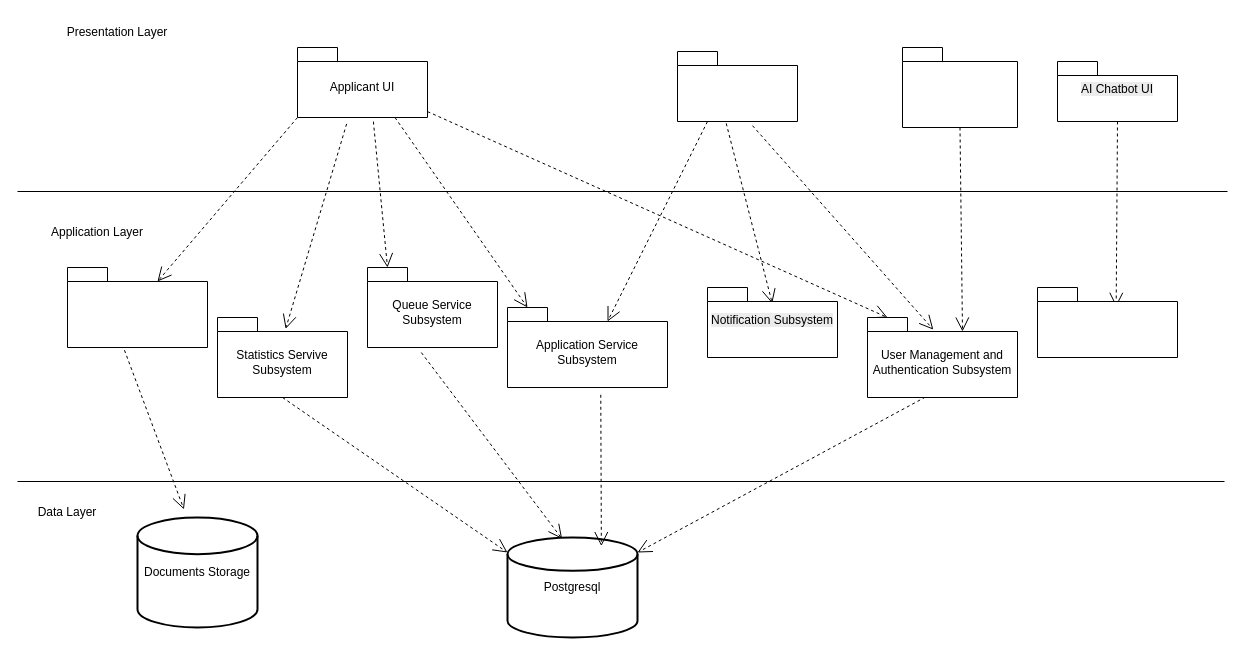
Image size: 1245x655. Some labels were removed from this diagram. The shapes that lost their labels are listed below. From the top down, each one's box as (x1, y1, x2, y2) in pixels, then its label:
(676, 50, 798, 122): Staff UI
(902, 46, 1018, 128): Admin UI
(66, 266, 208, 348): Document Management Subsystem
(1036, 286, 1178, 358): AI Service Subsystem
